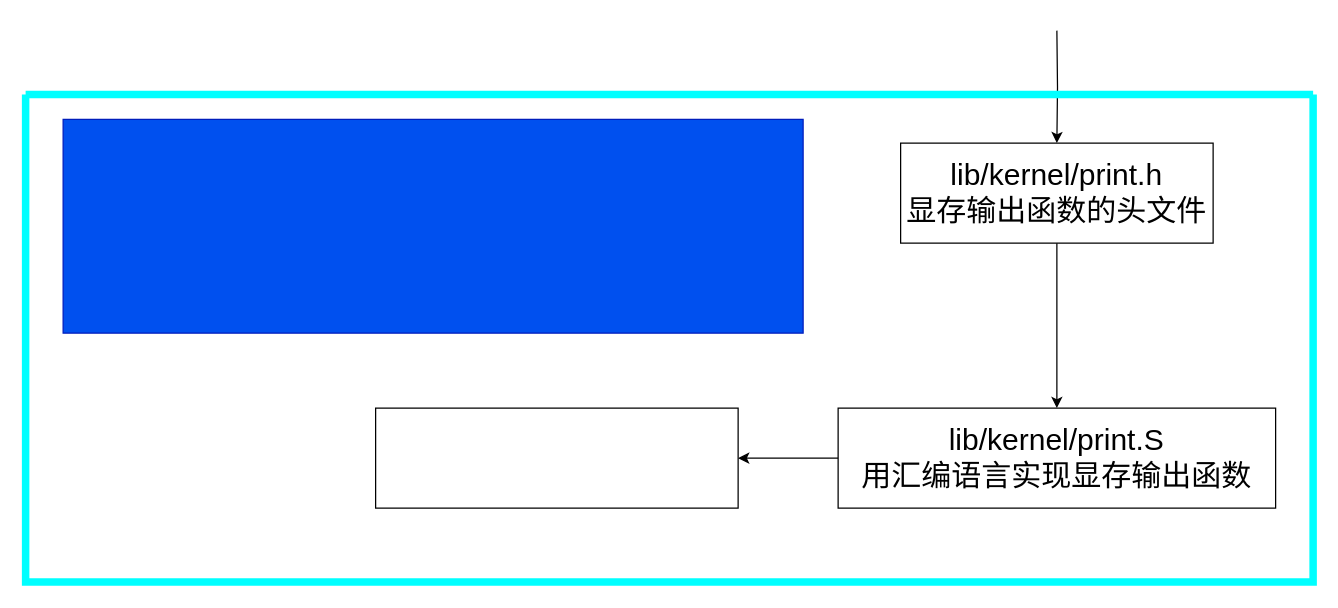
The diagram is 1338 pixels wide and 608 high, and some of its shapes have lost their labels. Each missing label, with the centre of its shape:
lib/kernel/print.S 分别实现了三个函数: point 556,457
实现输出函数用作测试 2: point 432,225
